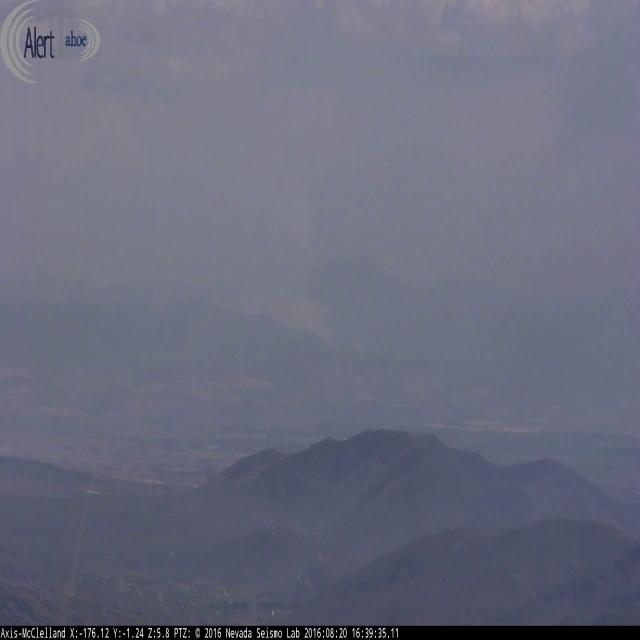smoke: (160, 147, 338, 342)
